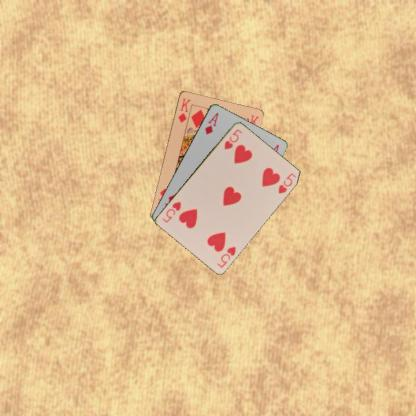5h: (214, 243, 237, 269), (221, 126, 244, 150)
Ad: (202, 110, 220, 136)
Kd: (176, 96, 192, 124)
